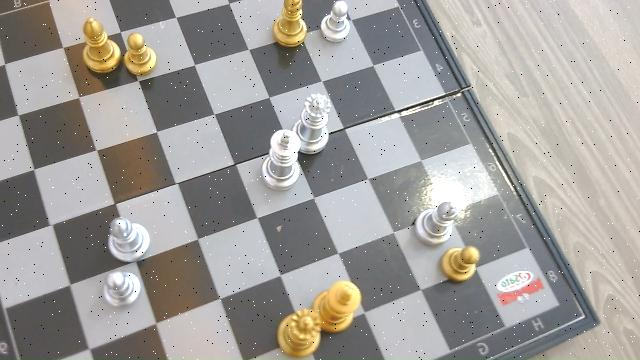black_bishop: (82, 14, 118, 74), (272, 0, 307, 47)
black_king: (322, 279, 361, 330)
black_pawn: (440, 245, 482, 284), (123, 32, 157, 78)
black_queen: (274, 308, 321, 359)
white_bishop: (104, 216, 151, 265), (413, 199, 461, 246)
white_king: (261, 128, 298, 191)
white_pawn: (100, 269, 143, 309), (320, 1, 353, 44)
white_queen: (298, 88, 331, 153)
